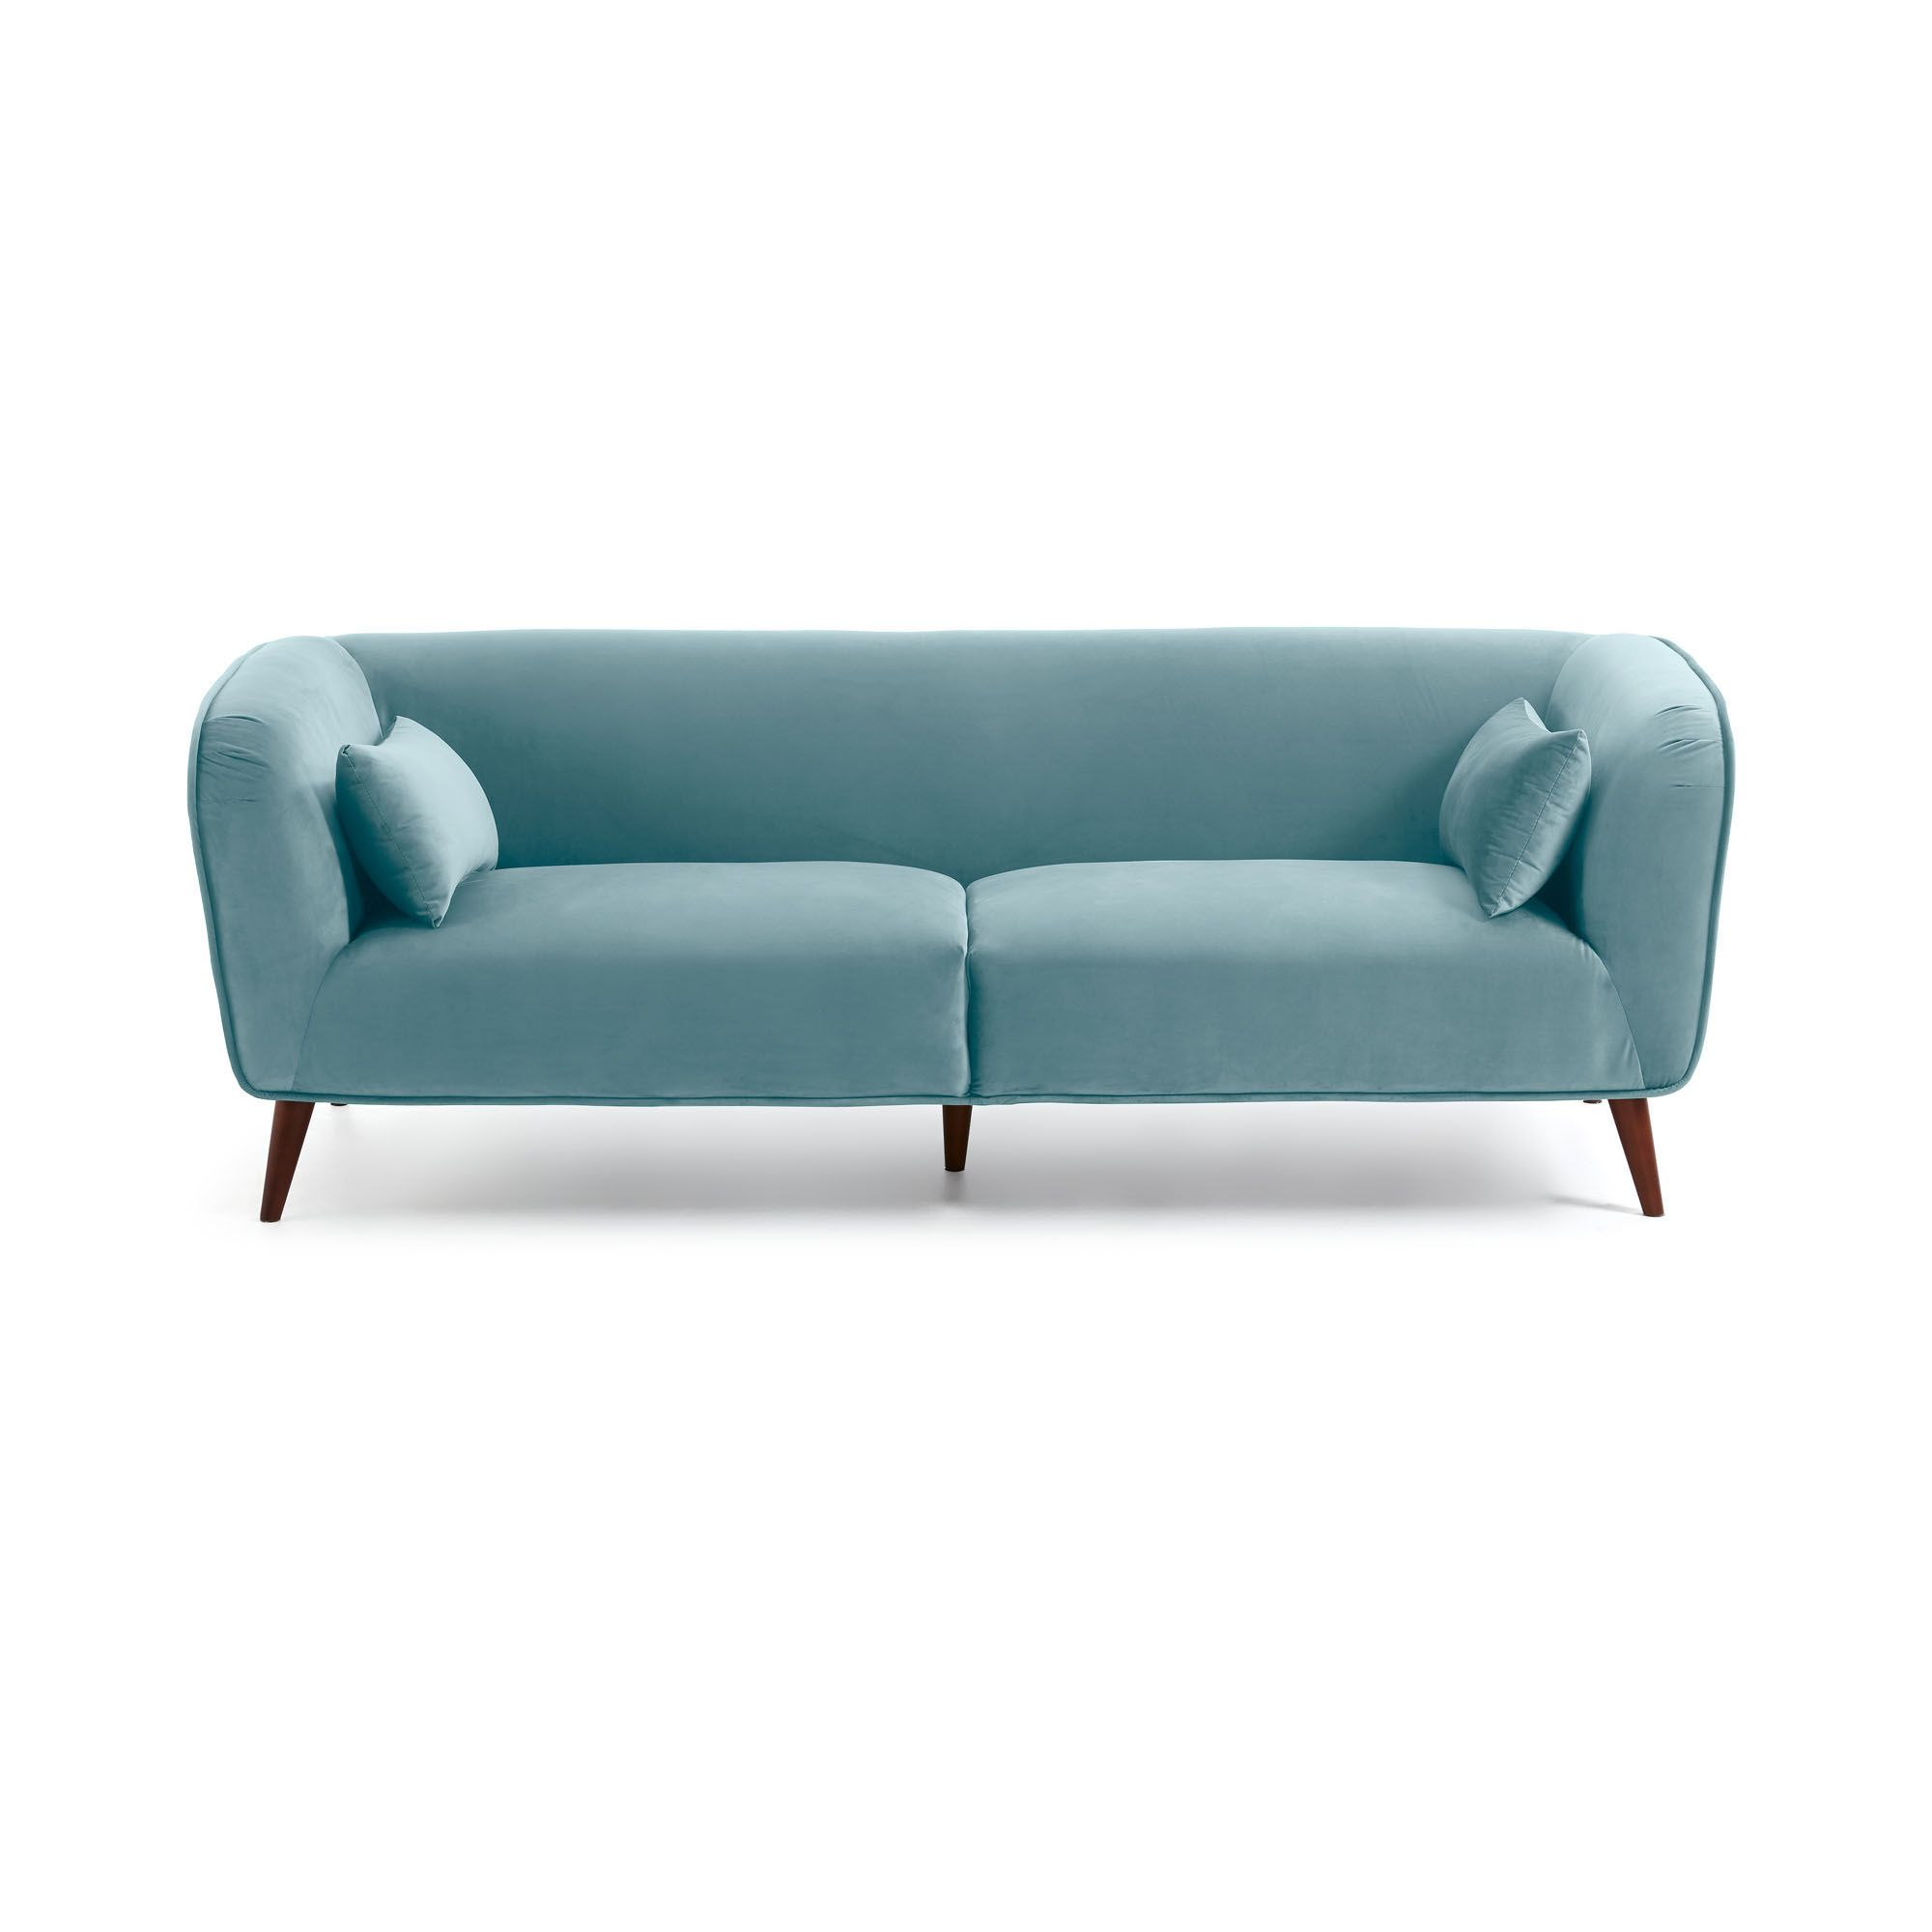sova: (16, 582, 1932, 1246)
